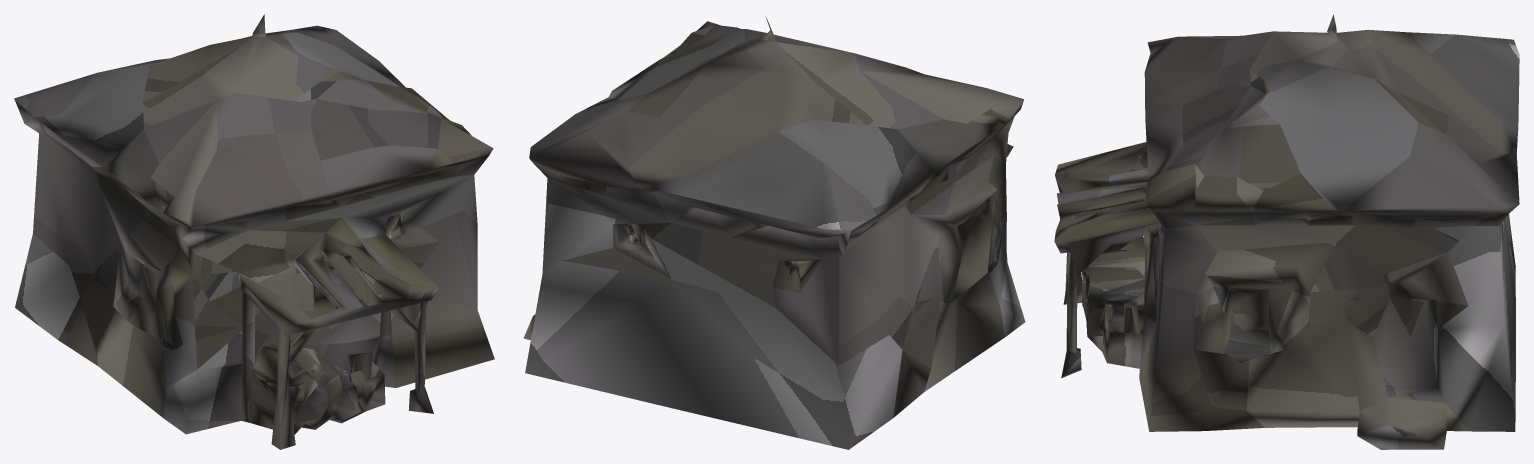
File: house_cottage_2_lo.glb
3 views of the same model, side by side, from view 1: azimuth 30°, elevation 25°; view 2: azimuth 150°, elevation 25°; view 3: azimuth 270°, elevation 25° (orthographic). The views are drawn at different scales.
Parts seen in each view (by area): view 1: tripo_node_f4536328-5a8a-4b85-a494-a01f031eb54b; view 2: tripo_node_f4536328-5a8a-4b85-a494-a01f031eb54b; view 3: tripo_node_f4536328-5a8a-4b85-a494-a01f031eb54b.
Part boxes in pixels (x1,y1,x2,y2): tripo_node_f4536328-5a8a-4b85-a494-a01f031eb54b: [14, 14, 494, 449]; tripo_node_f4536328-5a8a-4b85-a494-a01f031eb54b: [523, 16, 1025, 449]; tripo_node_f4536328-5a8a-4b85-a494-a01f031eb54b: [1054, 14, 1519, 449].
Bounding box in the file's own units: 0.9136 × 0.7921 × 0.9753.
1 material, 1 textured.
